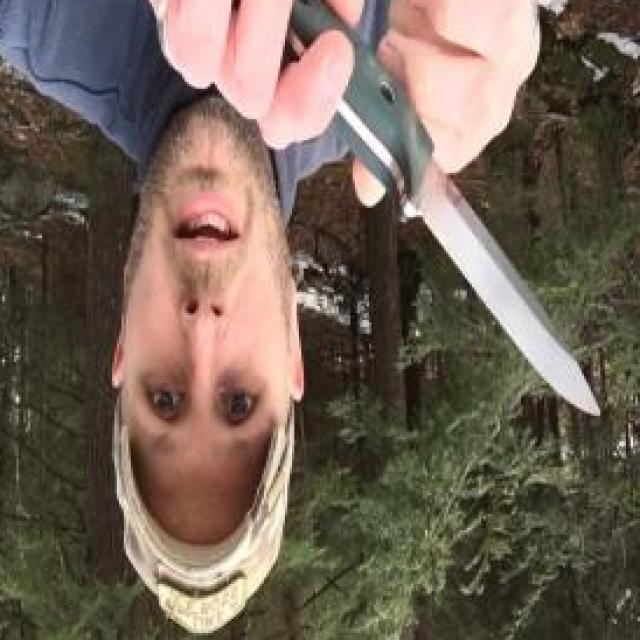knife: (304, 14, 610, 425)
